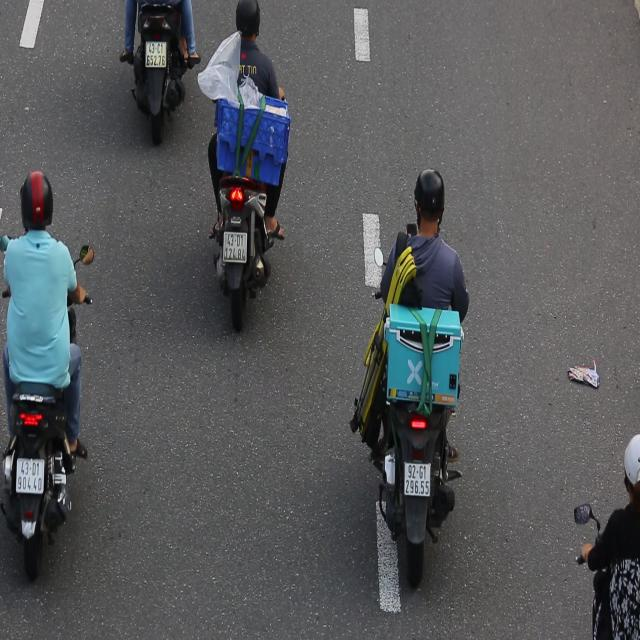motorbike: (354, 152, 478, 598), (0, 142, 98, 591), (202, 0, 302, 333)
